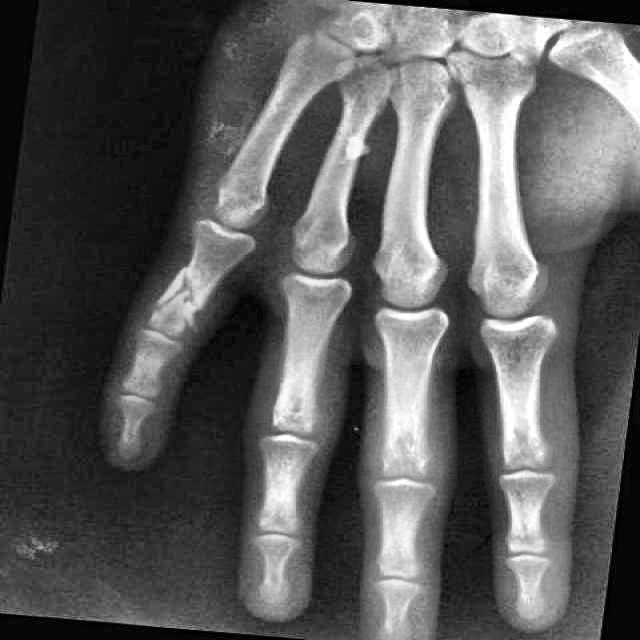Comminuted: (132, 267, 215, 348)
